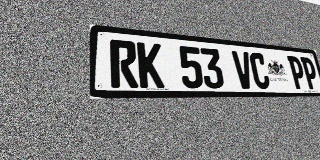3: (200, 48, 225, 89)
5: (179, 46, 204, 88)
C: (249, 52, 271, 89)
K: (137, 42, 165, 88)
P: (287, 56, 307, 89), (300, 57, 320, 89)
R: (110, 39, 139, 88)
V: (232, 51, 255, 89)
